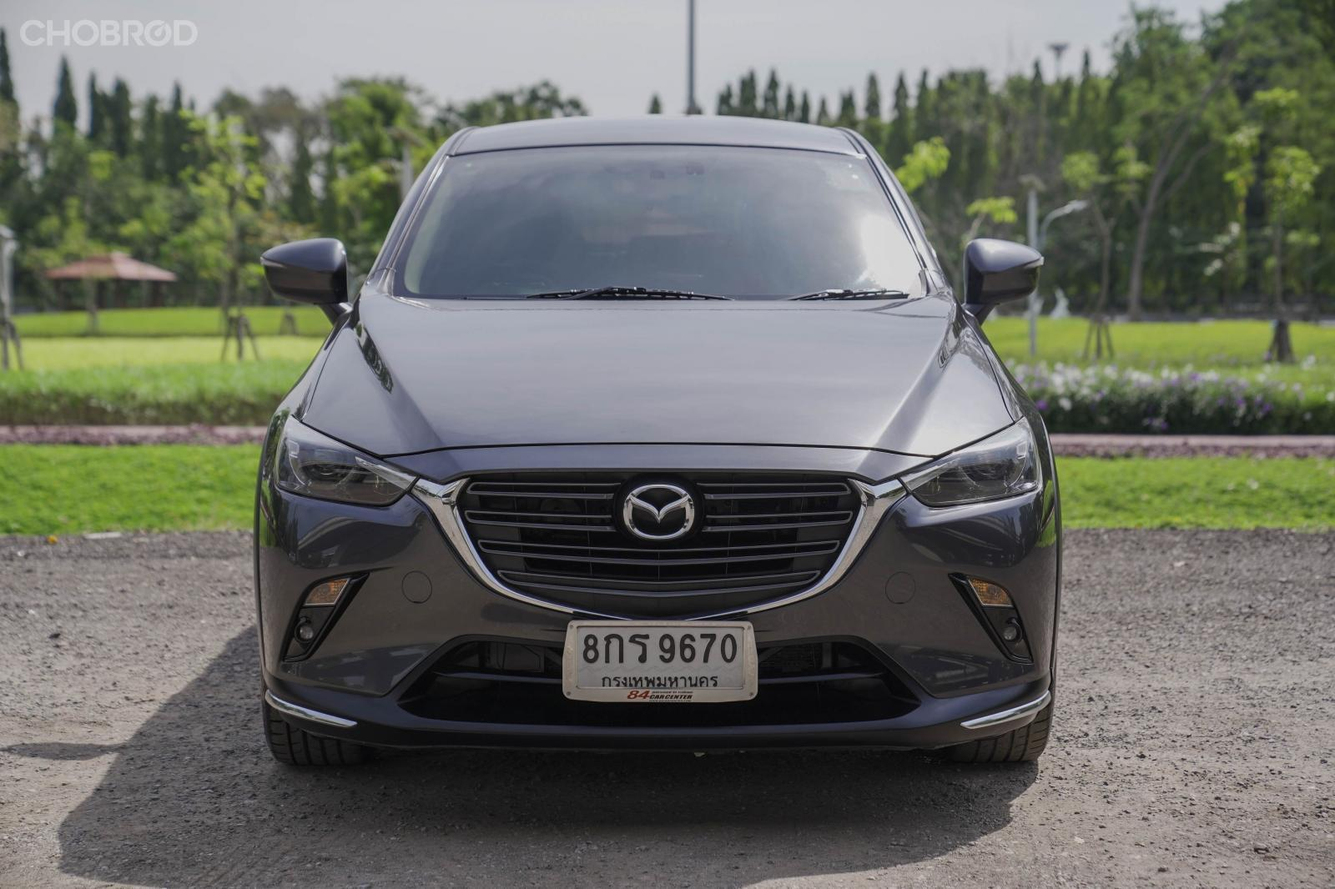license-plate: (560, 610, 764, 712)
